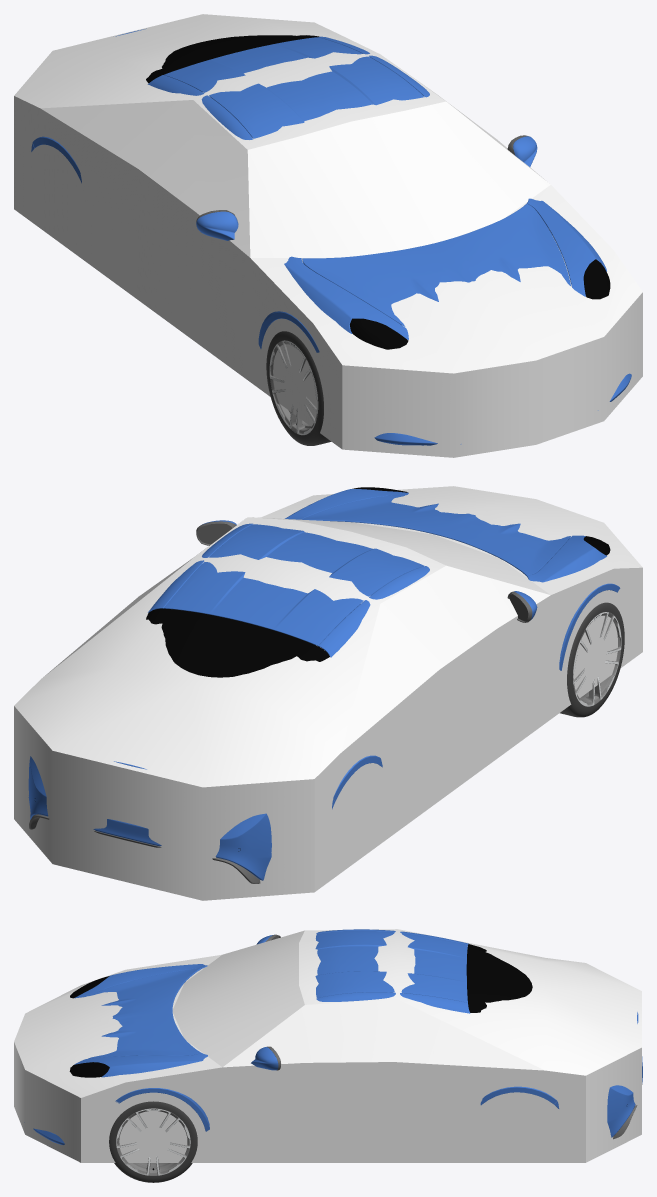
The model's file is alpine.glb.
3 views of the same model, one above another, from view 1: azimuth 30°, elevation 25°; view 2: azimuth 150°, elevation 25°; view 3: azimuth 270°, elevation 25° (orthographic). The views are drawn at different scales.
Visible parts, largest first — view 1: shape, body, glass, pneu001, wheel_r; view 2: shape, body, glass, gums, pneu001, wheel_r; view 3: shape, body, glass, pneu, wheel_l.
Part boxes in pixels (x1,y1,x2,y2): shape: (14, 14, 642, 457); body: (31, 28, 631, 445); glass: (146, 35, 610, 349); pneu001: (266, 331, 331, 445); wheel_r: (269, 340, 318, 435); shape: (14, 486, 642, 900); body: (28, 489, 620, 880); glass: (146, 487, 610, 677); gums: (29, 521, 532, 883); pneu001: (560, 602, 624, 717); wheel_r: (573, 612, 621, 706); shape: (14, 929, 641, 1162); body: (24, 929, 642, 1145); glass: (69, 944, 532, 1077); pneu: (109, 1101, 197, 1182); wheel_l: (116, 1108, 190, 1175).
Bounding box in the file's own units: 1.99 × 1.26 × 4.2.
